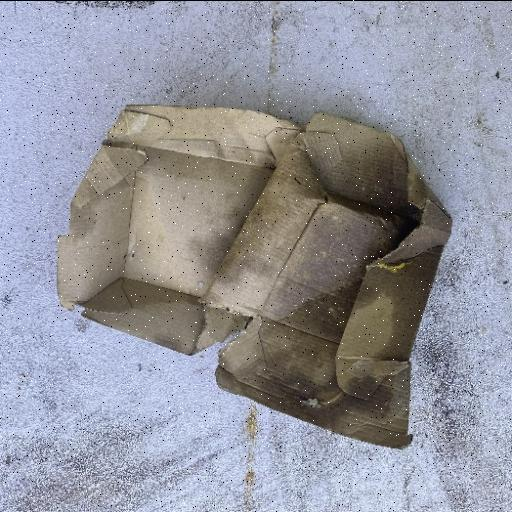Cardboard: (55, 100, 453, 450)
